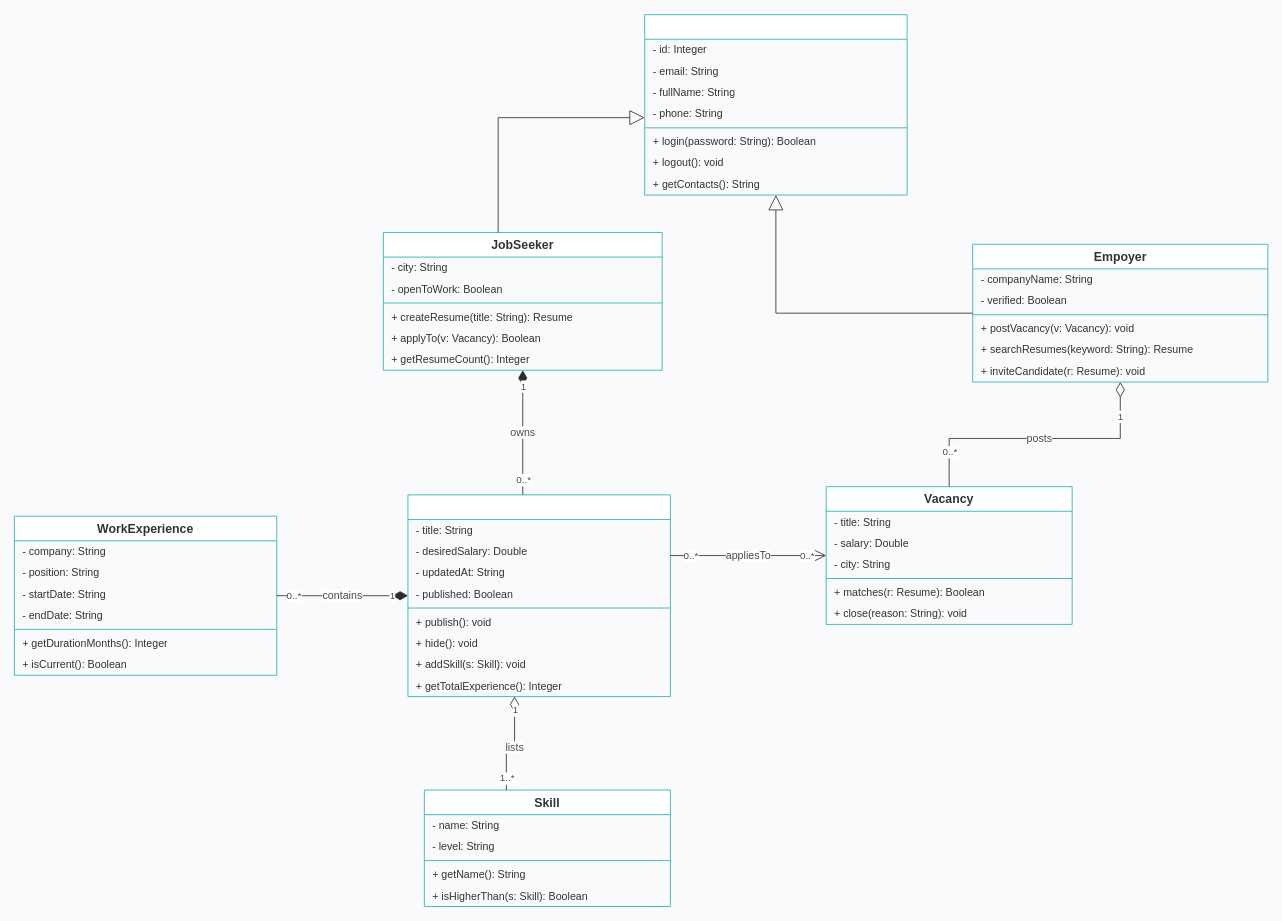
The diagram is 1282 pixels wide and 921 high, and some of its shapes have lost their labels. Here are the shapes that lost their labels. From the top down, the box of each, then its label:
(644, 14, 907, 195): User
(407, 494, 670, 697): Resume
